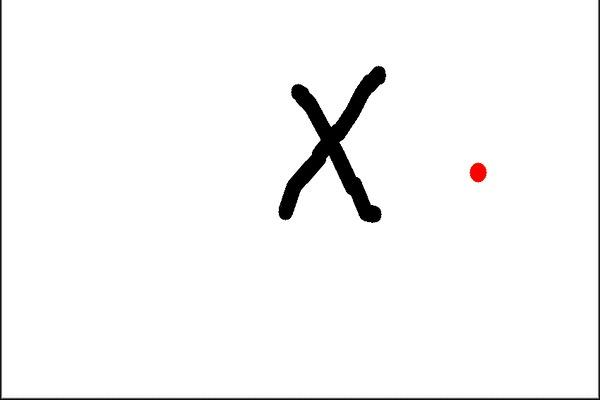Z: (255, 52, 411, 245)
